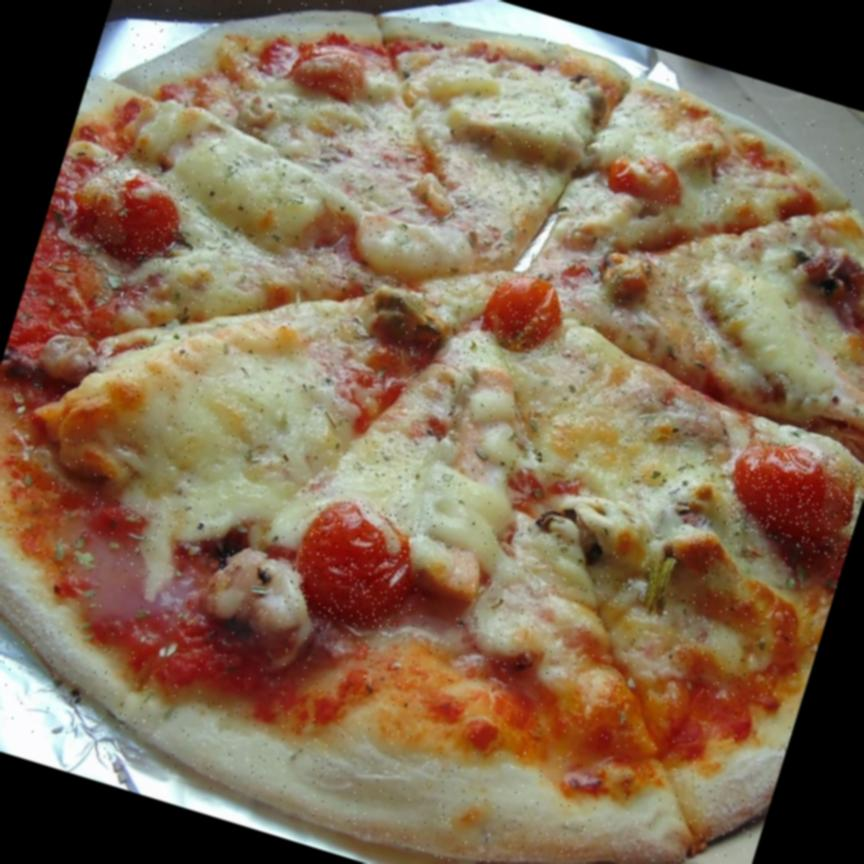Pizza: (0, 0, 864, 864)
Tomatoes: (282, 490, 429, 638), (722, 432, 864, 563), (67, 157, 196, 275), (478, 264, 578, 364), (288, 39, 374, 107), (606, 148, 687, 214)
